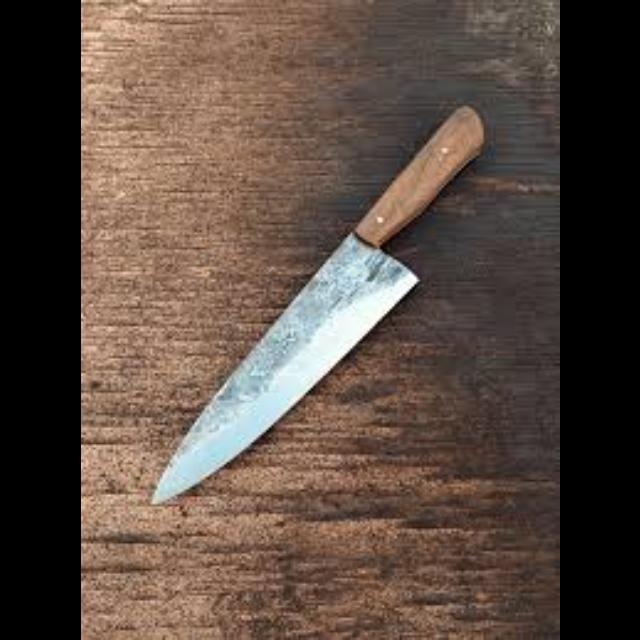knife: (147, 102, 485, 504)
